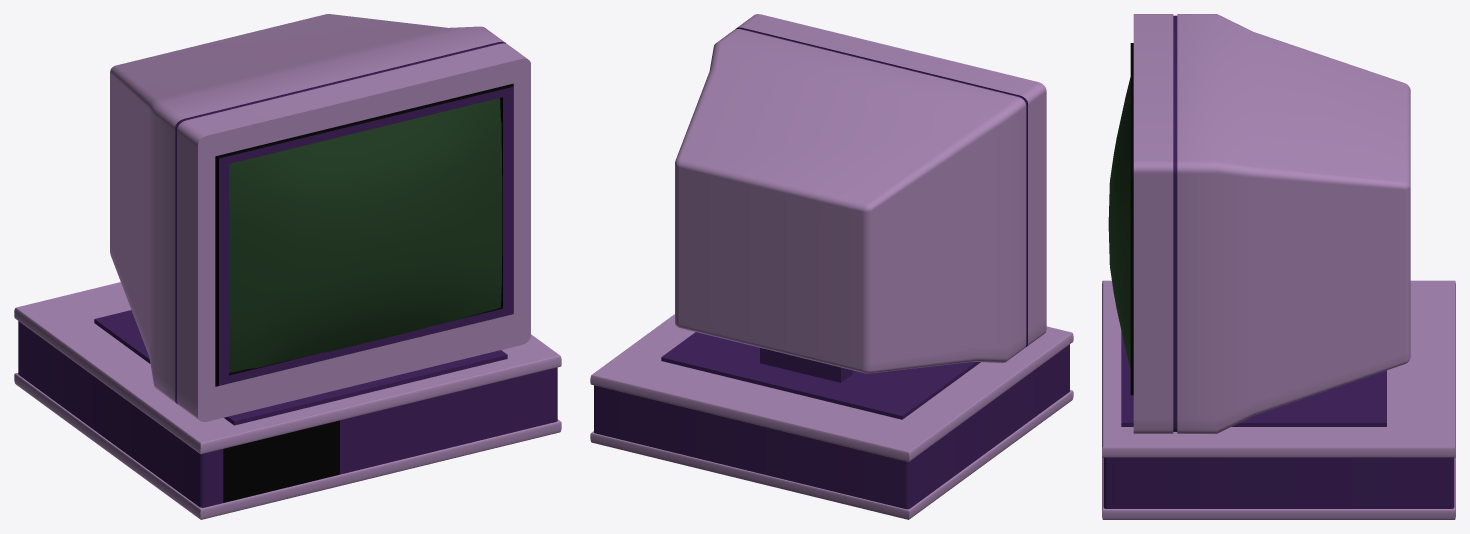
The picture shows the model from 3 angles, left to right: view 1: azimuth 30°, elevation 25°; view 2: azimuth 150°, elevation 25°; view 3: azimuth 270°, elevation 25°; orthographic projection. The views are drawn at different scales.
Visible parts, largest first — view 1: PC_Unido; view 2: PC_Unido; view 3: PC_Unido.
Part boxes in pixels (bbox=[...]): PC_Unido: bbox=[14, 14, 561, 519]; PC_Unido: bbox=[590, 14, 1073, 519]; PC_Unido: bbox=[1102, 14, 1455, 519].
Size of the model in its own units: 0.4084 by 0.3966 by 0.3647.
